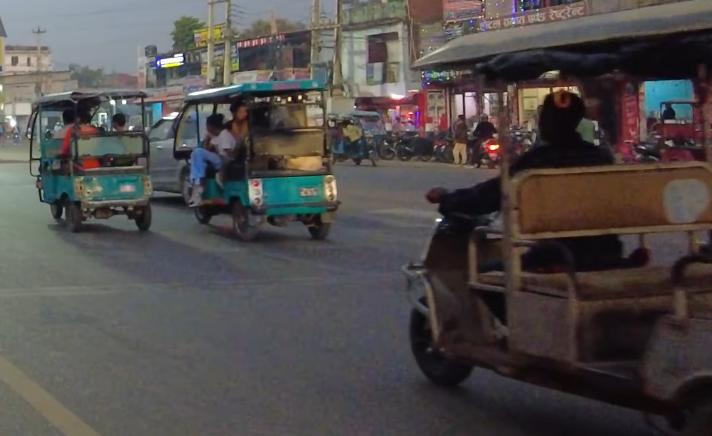e-rickshaw: (399, 9, 712, 436), (172, 74, 338, 238), (25, 90, 159, 235), (334, 106, 387, 171)
